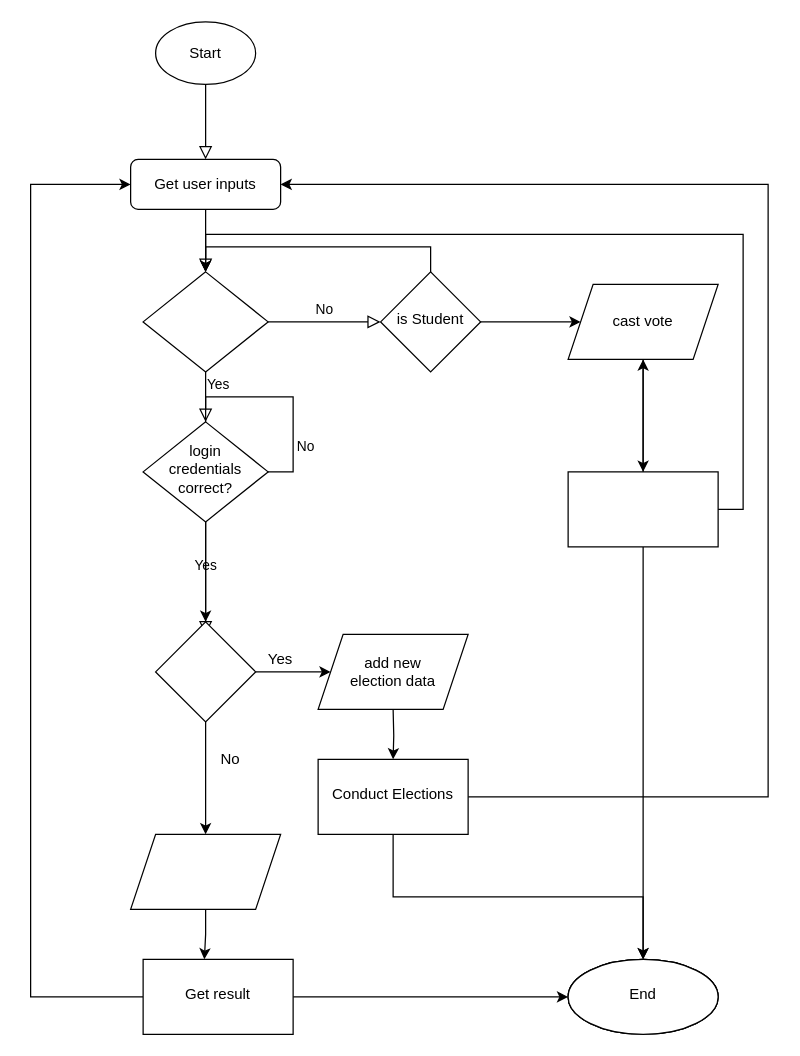
Image size: 800x1056. Some labels were removed from this diagram. The shapes that lost their labels are listed below. From the top down, each one's centre as x and y in pixels, then its label:
At point (205, 321): "is Admin?".
At point (642, 509): "Display success".
At point (205, 671): "New Election".
At point (205, 871): "Get Result count".
